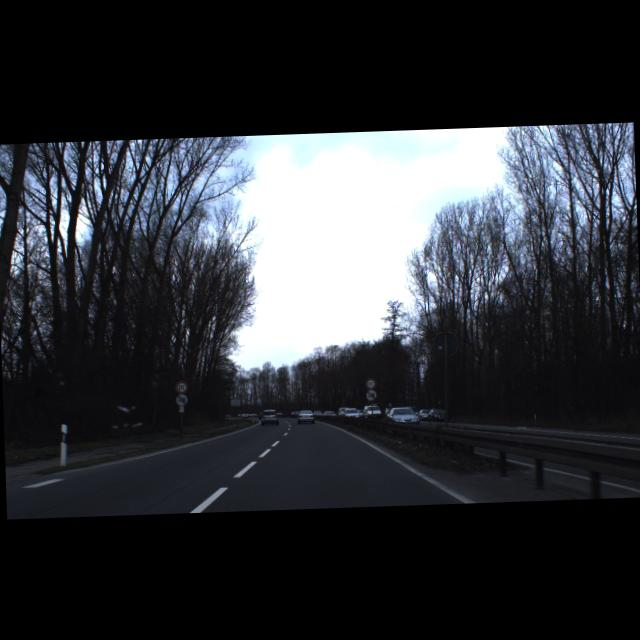other: (175, 392, 188, 406), (366, 388, 377, 400)
prohibitory: (175, 380, 188, 392), (364, 376, 376, 388)
